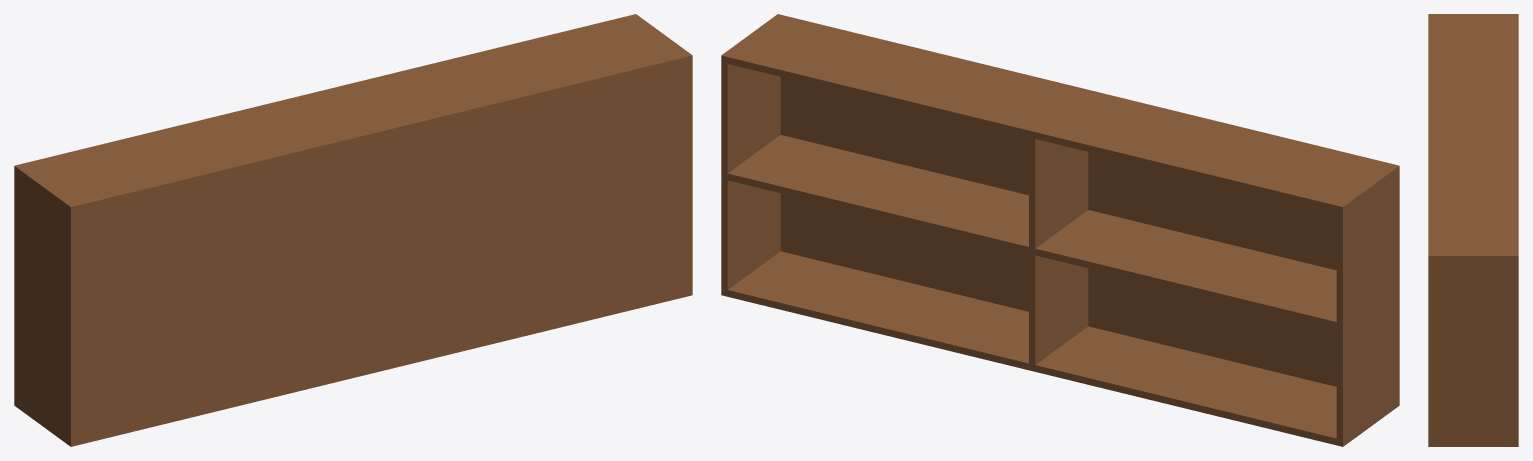
File: parametric-wall-shelf-1st-1900x0300x0700.glb
3 views of the same model, side by side, from view 1: azimuth 30°, elevation 25°; view 2: azimuth 150°, elevation 25°; view 3: azimuth 270°, elevation 25° (orthographic). The views are drawn at different scales.
Visible parts, largest first — view 1: backboard, top, end:-1; view 2: backboard, top, bottom, shelf, end:-1, end:1, divider:1; view 3: top, end:1, backboard, end:-1.
Boxes of the visible parts, x1,y1,x2,y2 form: backboard: (67, 53, 692, 446); top: (21, 15, 681, 202); end:-1: (14, 164, 73, 443); backboard: (774, 14, 1399, 407); top: (727, 18, 1388, 212); bottom: (727, 251, 1336, 445); shelf: (727, 135, 1336, 328); end:-1: (1336, 167, 1395, 446); end:1: (721, 17, 780, 296); divider:1: (1029, 137, 1088, 364); top: (1434, 16, 1518, 253); end:1: (1434, 253, 1518, 446); backboard: (1428, 14, 1434, 446); end:-1: (1434, 14, 1518, 16).
Bounding box in the file's own units: 1.9 × 0.7 × 0.3.
